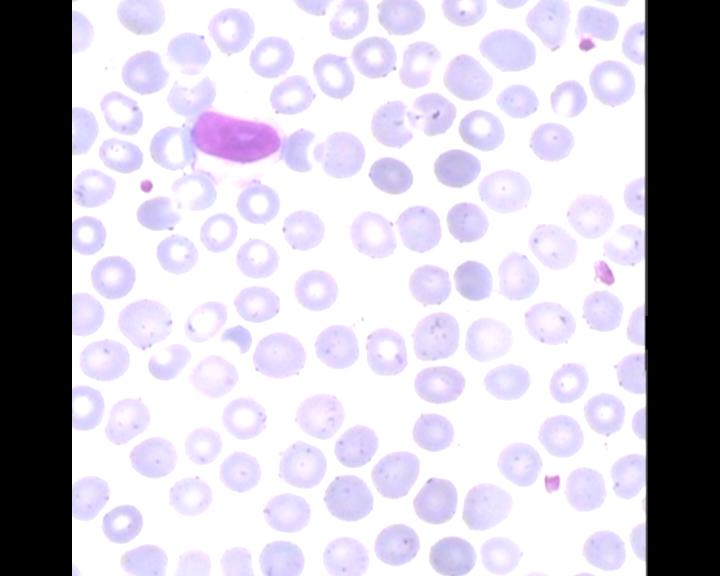mono: (179, 100, 289, 188)
